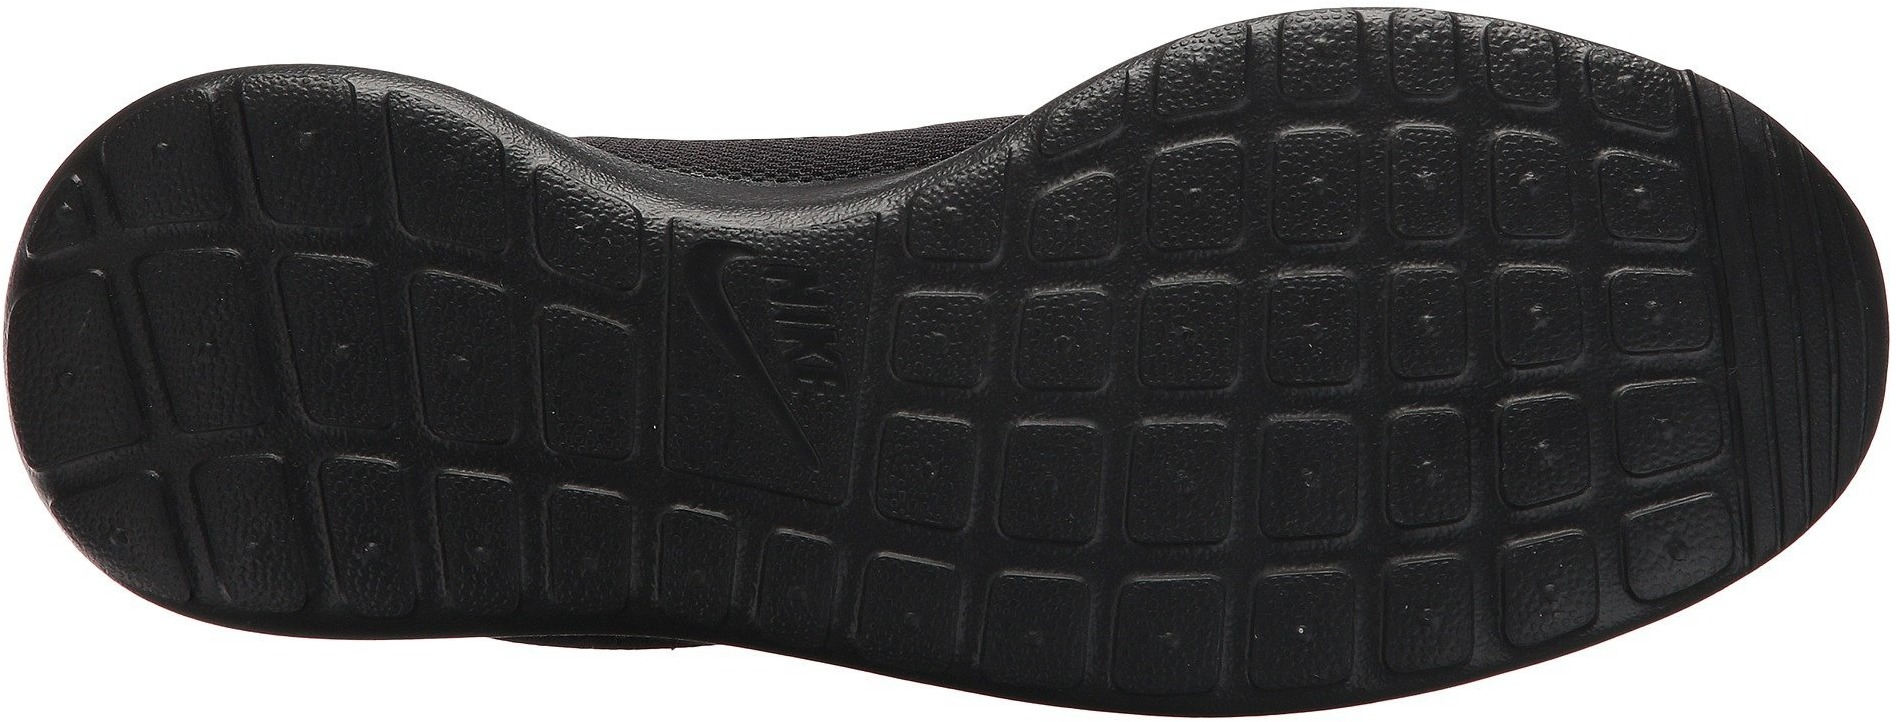exclude: (443, 77, 1060, 180)
other: (669, 227, 859, 473)
quad: (156, 164, 543, 558), (1028, 148, 1395, 503), (1399, 82, 1683, 356), (1424, 364, 1660, 584), (1734, 233, 1872, 386)
text: (734, 253, 881, 399)
